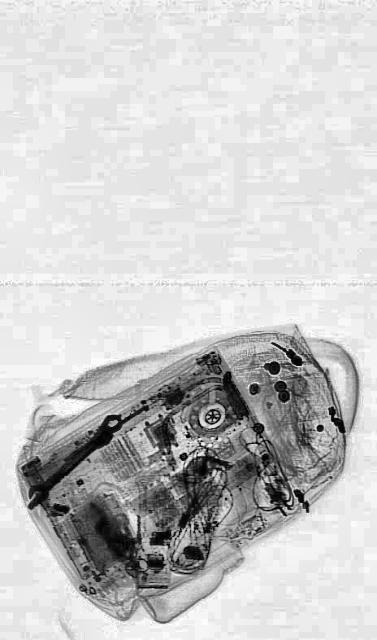Scissors: (124, 532, 148, 574)
Wrench: (22, 402, 125, 514)
